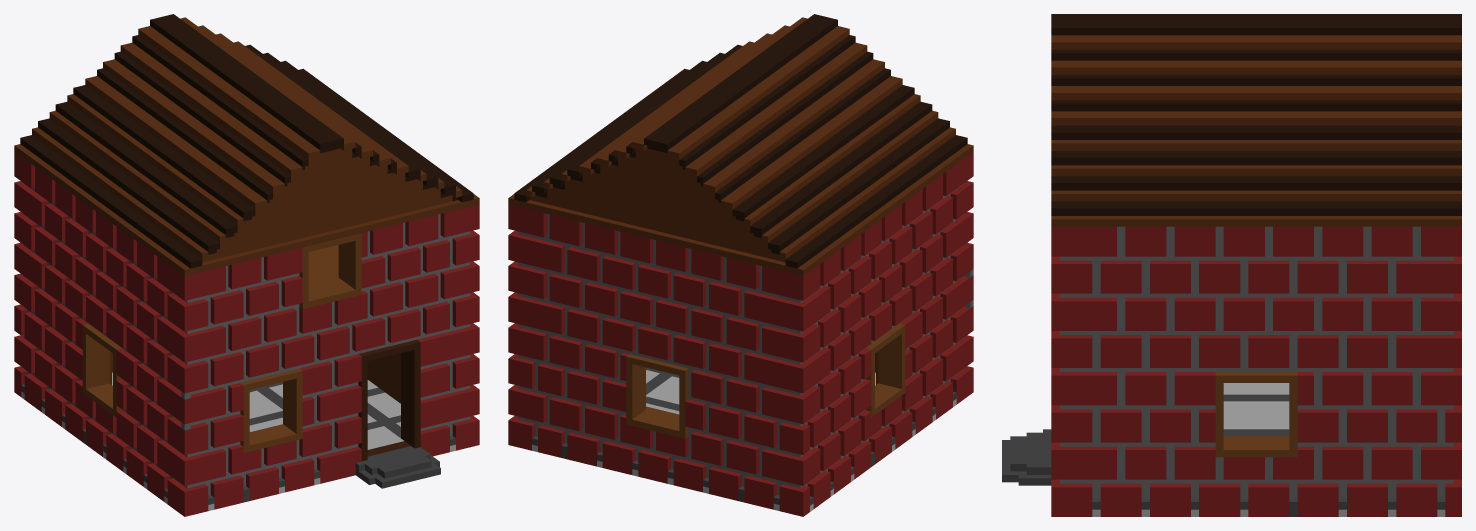
Rendered from HouseNEW.obj.
The picture shows the model from 3 angles, left to right: view 1: azimuth 30°, elevation 25°; view 2: azimuth 150°, elevation 25°; view 3: azimuth 270°, elevation 25°; orthographic projection. The views are drawn at different scales.
Size of the model in its own units: 5 by 5.6 by 5.6.
